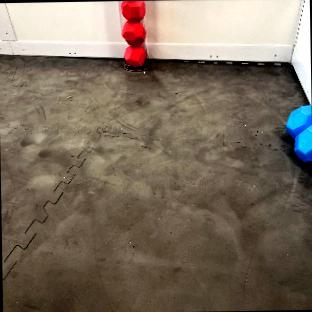V5_BLUE: (282, 104, 312, 161)
V5_RED: (121, 20, 146, 43), (125, 43, 146, 66), (121, 0, 143, 21)
